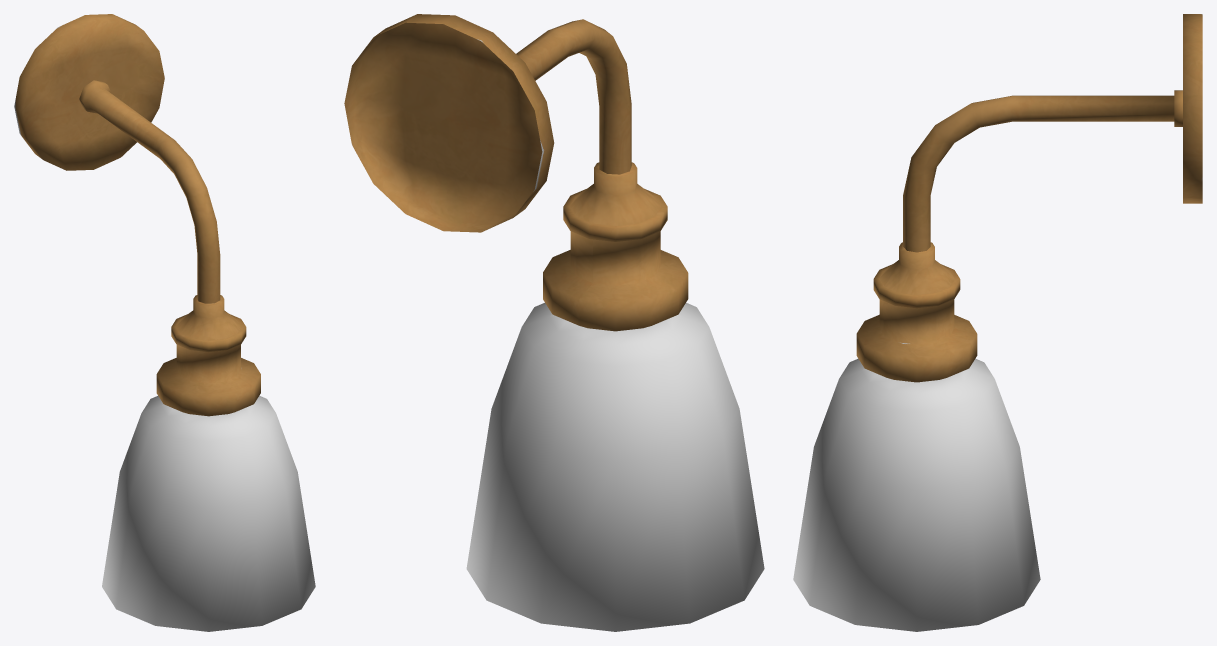
Rendered from LightWall.fbx.
3 renders of one model, left to right at view 1: azimuth 30°, elevation 25°; view 2: azimuth 150°, elevation 25°; view 3: azimuth 270°, elevation 25°, orthographic. The views are drawn at different scales.
Parts seen in each view (by area): view 1: LightBase.005, WallLight.001; view 2: LightBase.005, WallLight.001; view 3: LightBase.005, WallLight.001.
Boxes of the visible parts, box(x1,y1,x2,y2) form: LightBase.005: box(102, 396, 315, 631); WallLight.001: box(14, 14, 260, 416); LightBase.005: box(466, 302, 764, 631); WallLight.001: box(344, 14, 688, 331); LightBase.005: box(793, 358, 1040, 631); WallLight.001: box(856, 14, 1202, 382).
Size of the model in its own units: 12.15 by 30.19 by 20.12.
